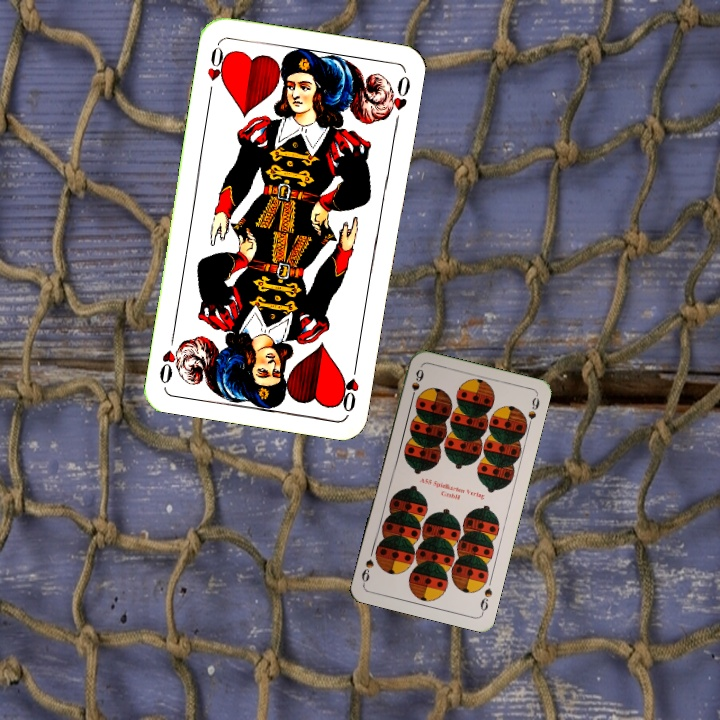HO: (203, 41, 231, 100), (337, 356, 362, 415)
S9: (407, 365, 426, 404), (476, 584, 495, 616)
